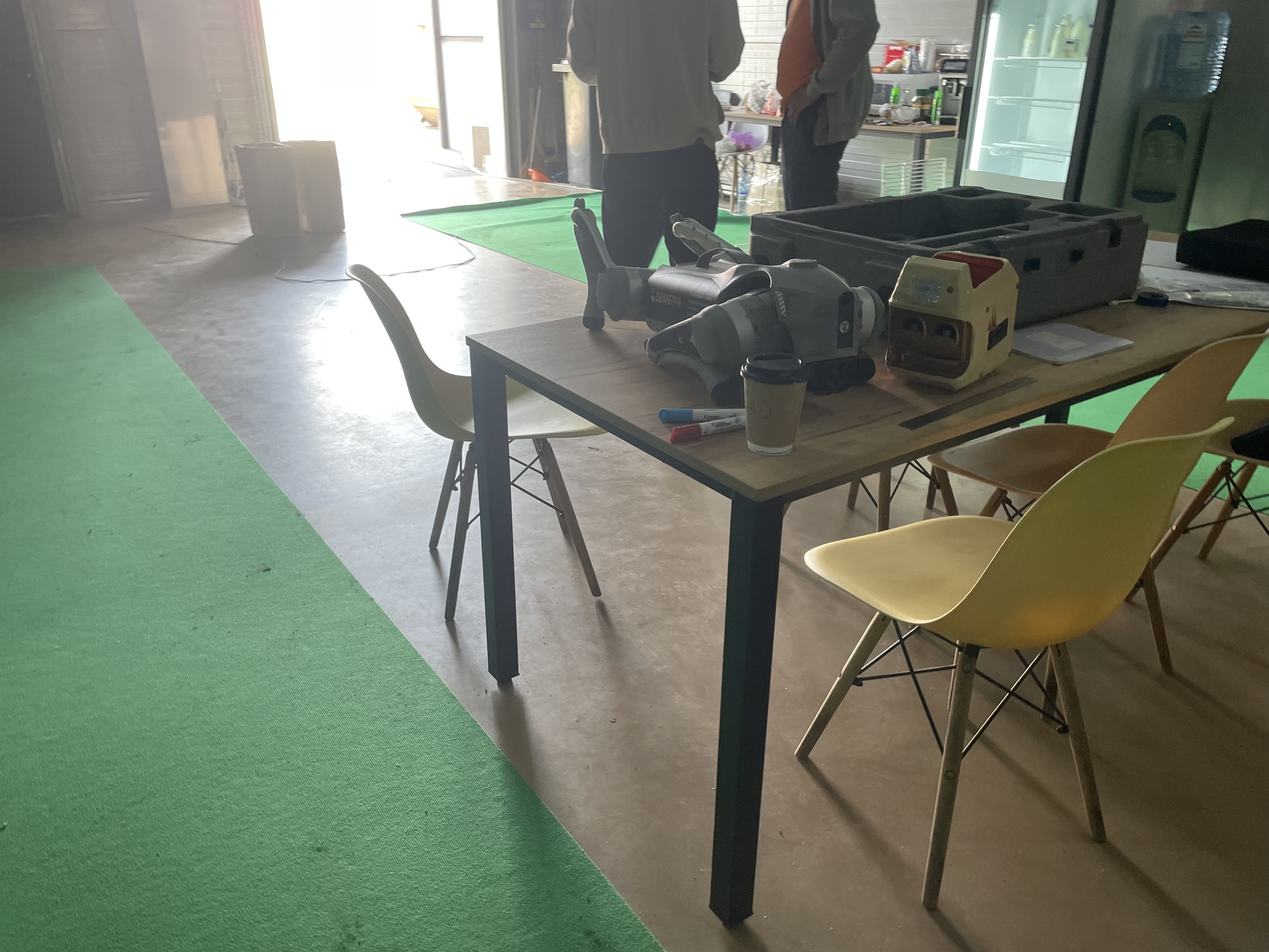cup: (739, 352, 812, 456)
